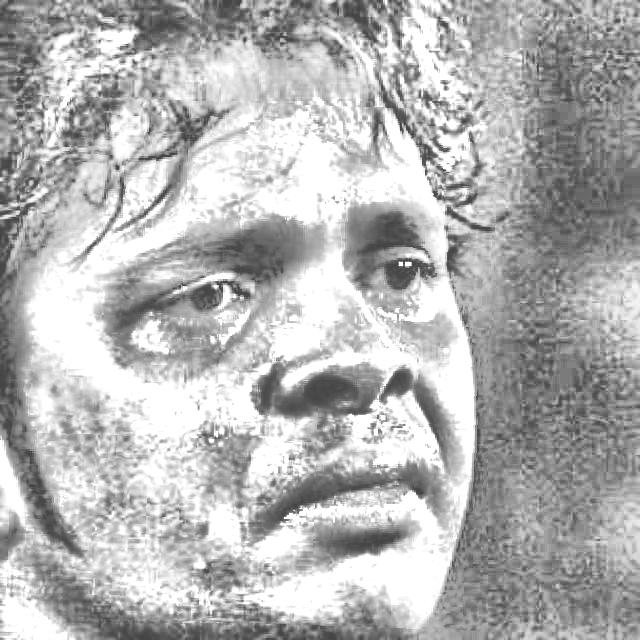sad: (11, 99, 495, 627)
